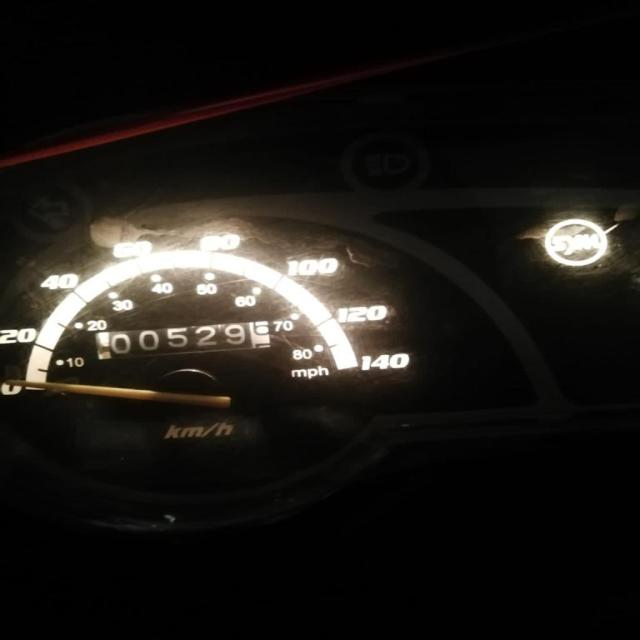odometer: (91, 319, 272, 362)
